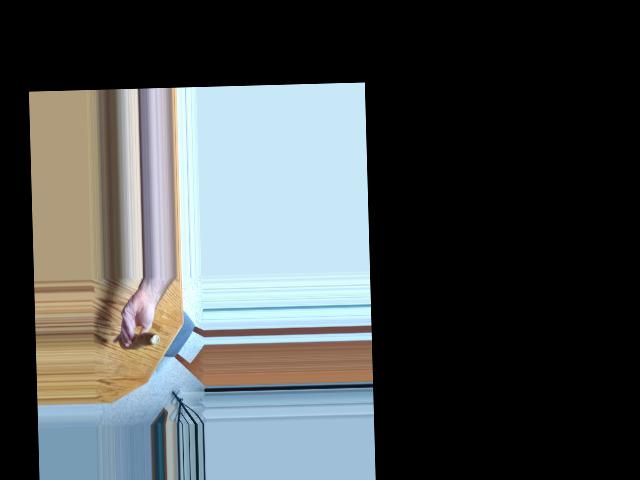sweet_potato: (121, 331, 153, 350)
